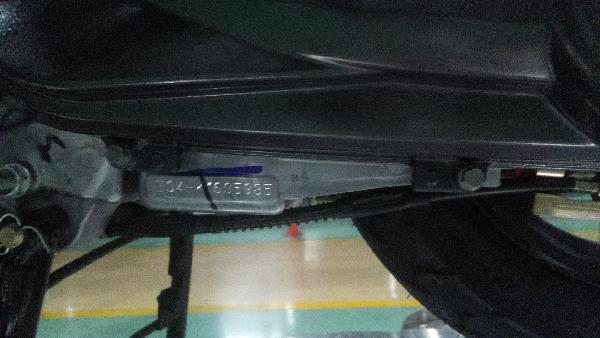box: (153, 180, 273, 197)
